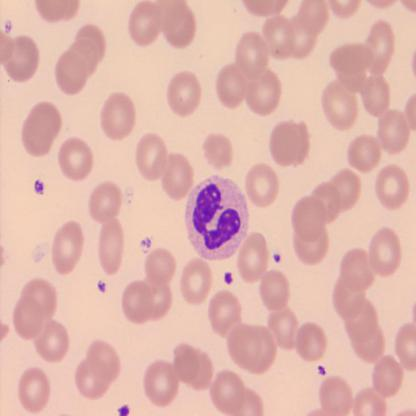Segmented neutrophil: (183, 169, 251, 262)
